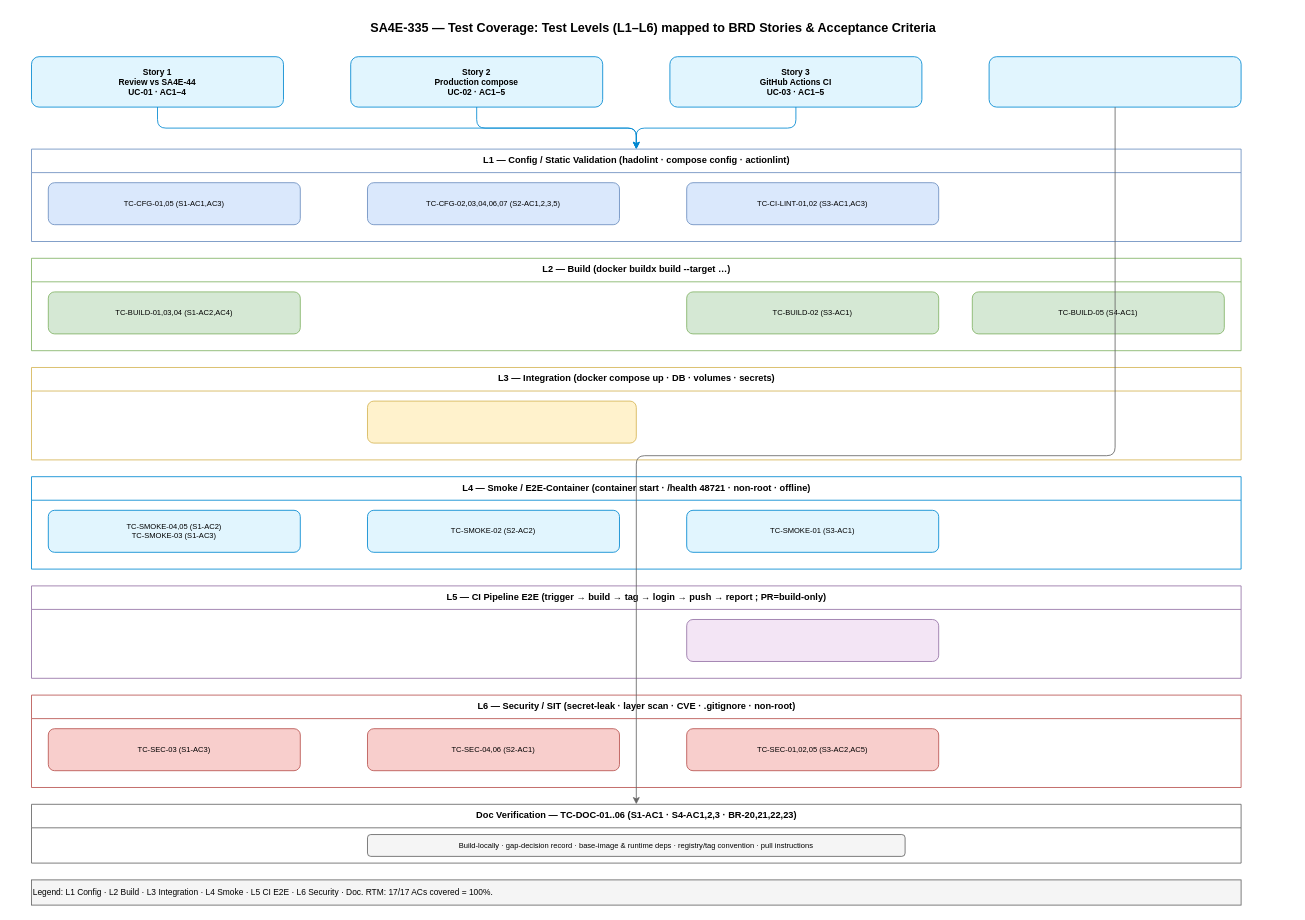
The diagram is 1305 pixels wide and 920 high, and some of its shapes have lost their labels. The shapes that lost their labels are listed below. From the top down, each one's centre as x and y in pixels, then its label:
At (1114,81): "Story 4 Build & registry docs UC-04 · AC1–3".
At (501,421): "TC-INT-01,02,03,04,05,06 (S2-AC1,2,4,5)".
At (812,640): "TC-CI-01..07 (S3-AC1,3,4)".
